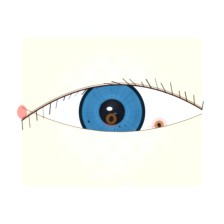foreign_body_visible: (148, 116, 170, 134)
